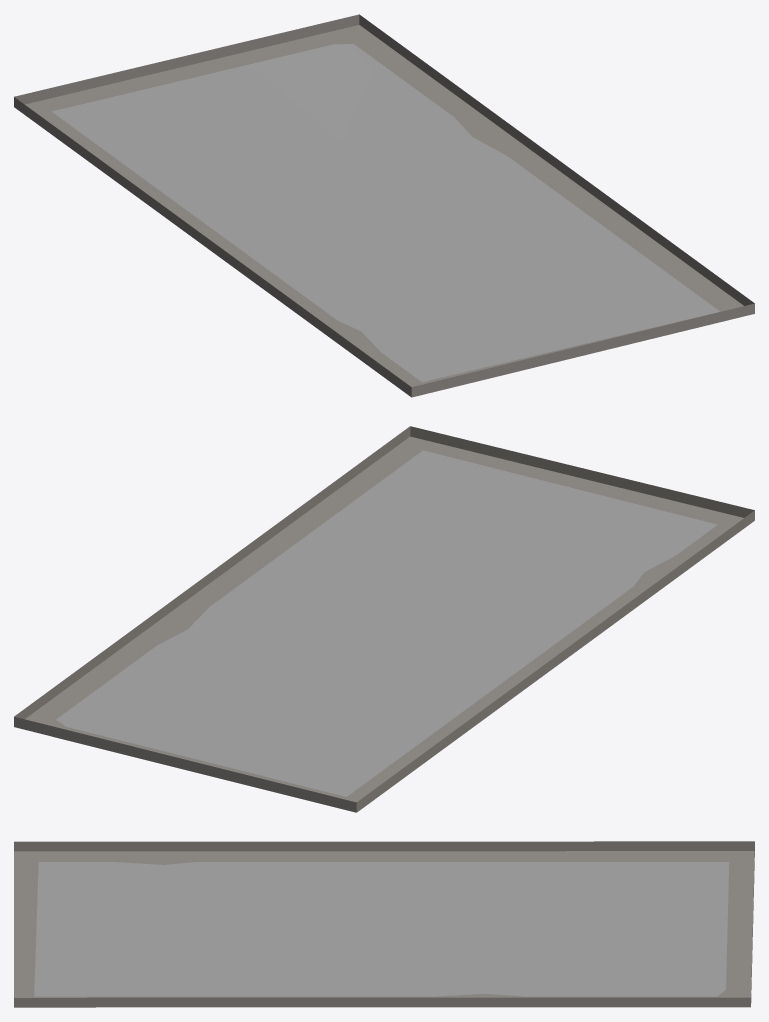
The model's file is SM_Bld_Ceiling_Panel_Light_02.glb.
The picture shows the model from 3 angles, top to bottom: view 1: azimuth 30°, elevation 25°; view 2: azimuth 150°, elevation 25°; view 3: azimuth 270°, elevation 25°; orthographic projection. The views are drawn at different scales.
Visible parts, largest first — view 1: SM_Bld_Ceiling_Panel_Light_02; view 2: SM_Bld_Ceiling_Panel_Light_02; view 3: SM_Bld_Ceiling_Panel_Light_02.
Part boxes in pixels (x1,y1,x2,y2): SM_Bld_Ceiling_Panel_Light_02: (14, 14, 754, 397); SM_Bld_Ceiling_Panel_Light_02: (14, 426, 754, 812); SM_Bld_Ceiling_Panel_Light_02: (14, 841, 754, 1007).
Bounding box in the file's own units: 1.08 × 0.0317 × 2.16.
1 material, 1 textured.
